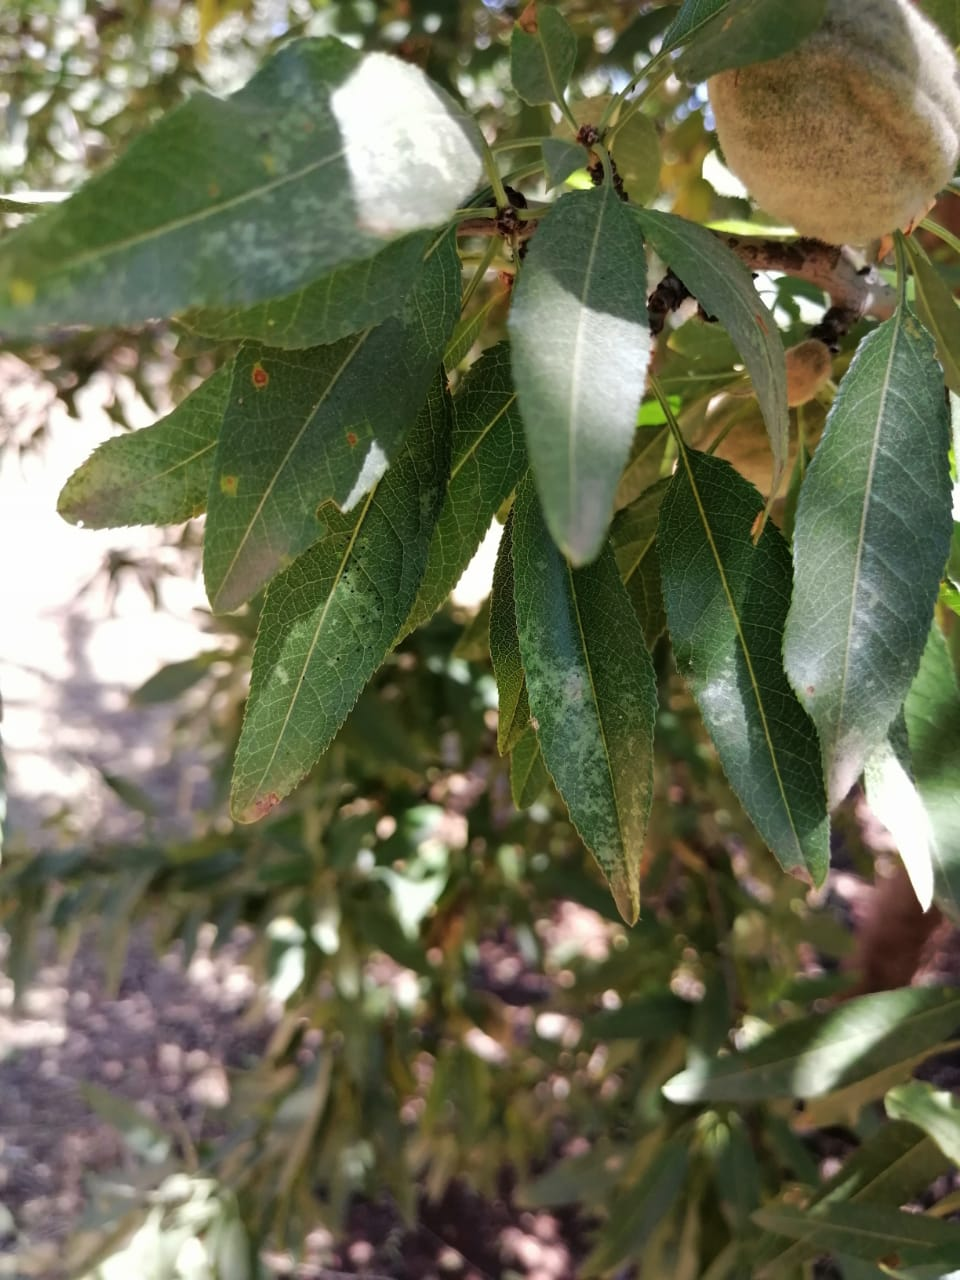faux tigre: (229, 357, 448, 827), (507, 488, 659, 927)
